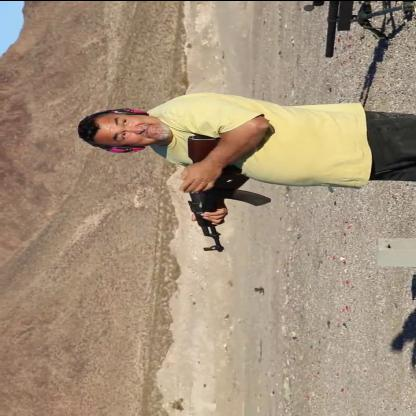long weapon: (177, 127, 264, 268)
